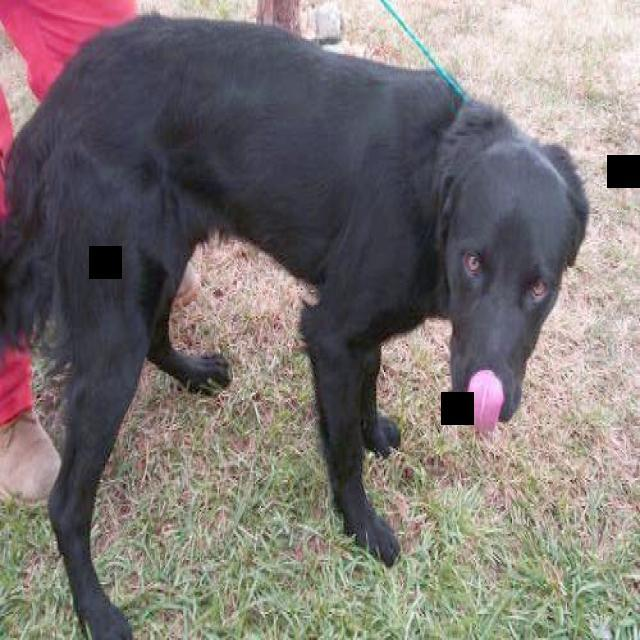adult_dog: (0, 14, 594, 640)
